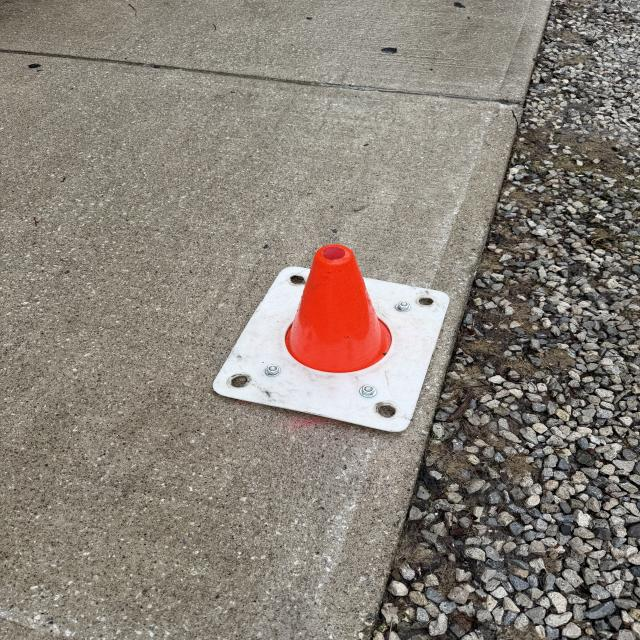Traffic Cone: (210, 243, 452, 434)
